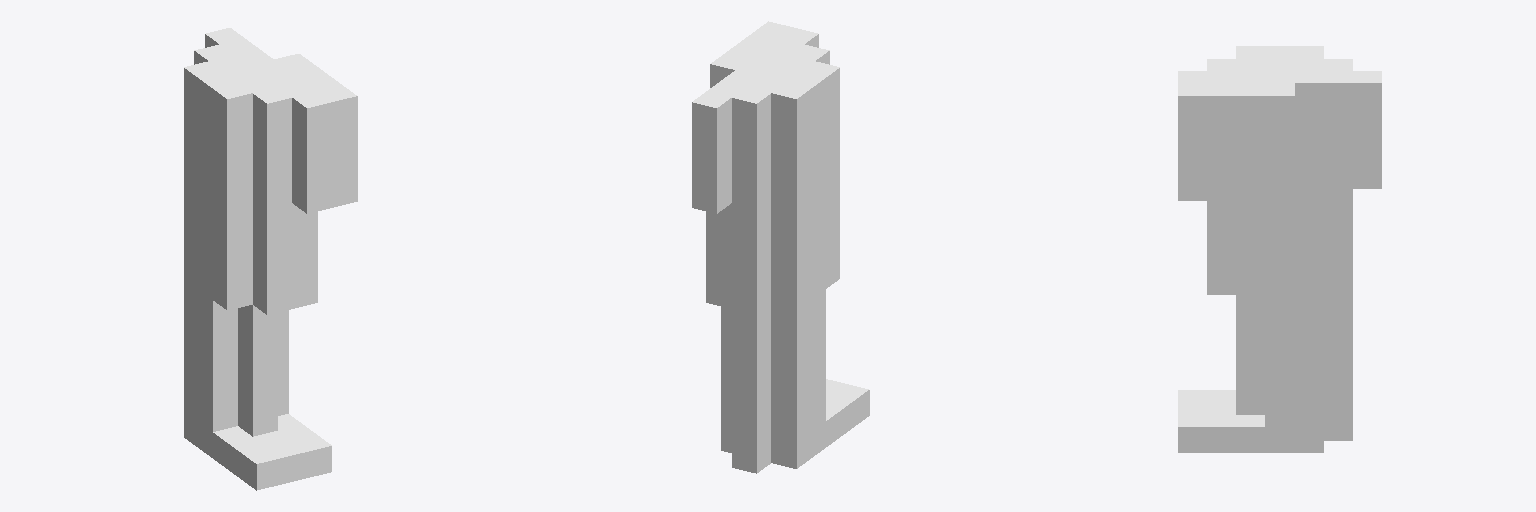
The model's file is char-136-leg_lgt_1c_sh_ja_du_color.obj.
The picture shows the model from 3 angles: view 1: azimuth 30°, elevation 25°; view 2: azimuth 150°, elevation 25°; view 3: azimuth 270°, elevation 25°; orthographic projection.
Parts seen in each view (by area): view 1: leg_lgt_1c_sh_ja_du_color; view 2: leg_lgt_1c_sh_ja_du_color; view 3: leg_lgt_1c_sh_ja_du_color.
Part boxes in pixels (bbox=[...]): leg_lgt_1c_sh_ja_du_color: bbox=[184, 28, 357, 490]; leg_lgt_1c_sh_ja_du_color: bbox=[692, 21, 869, 473]; leg_lgt_1c_sh_ja_du_color: bbox=[1178, 46, 1381, 452].
Size of the model in its own units: 0.4 by 1.4 by 0.7.